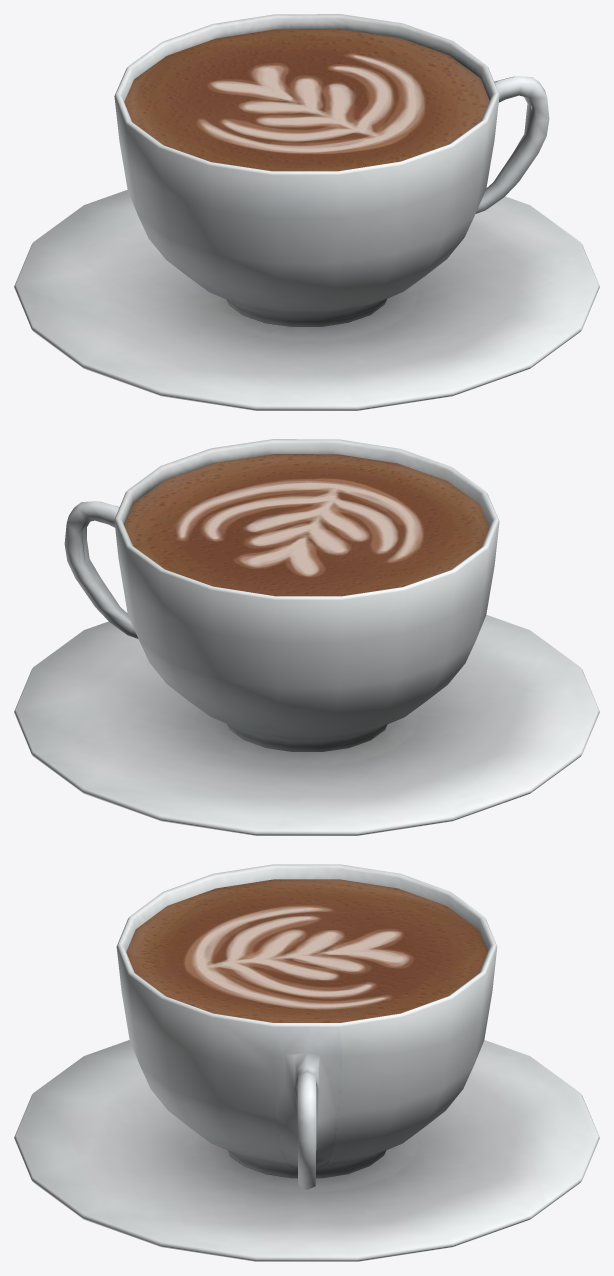
File: latte-cup.glb
The picture shows the model from 3 angles, top to bottom: view 1: azimuth 30°, elevation 25°; view 2: azimuth 150°, elevation 25°; view 3: azimuth 270°, elevation 25°; orthographic projection.
Parts seen in each view (by area): view 1: Object_4; view 2: Object_4; view 3: Object_4.
Boxes of the visible parts, x1=… form: Object_4: x1=14, y1=14, x2=599, y2=410; Object_4: x1=14, y1=439, x2=599, y2=835; Object_4: x1=14, y1=864, x2=599, y2=1261.
Bounding box in the file's own units: 0.2597 × 0.105 × 0.2637.
1 material, 1 textured.
